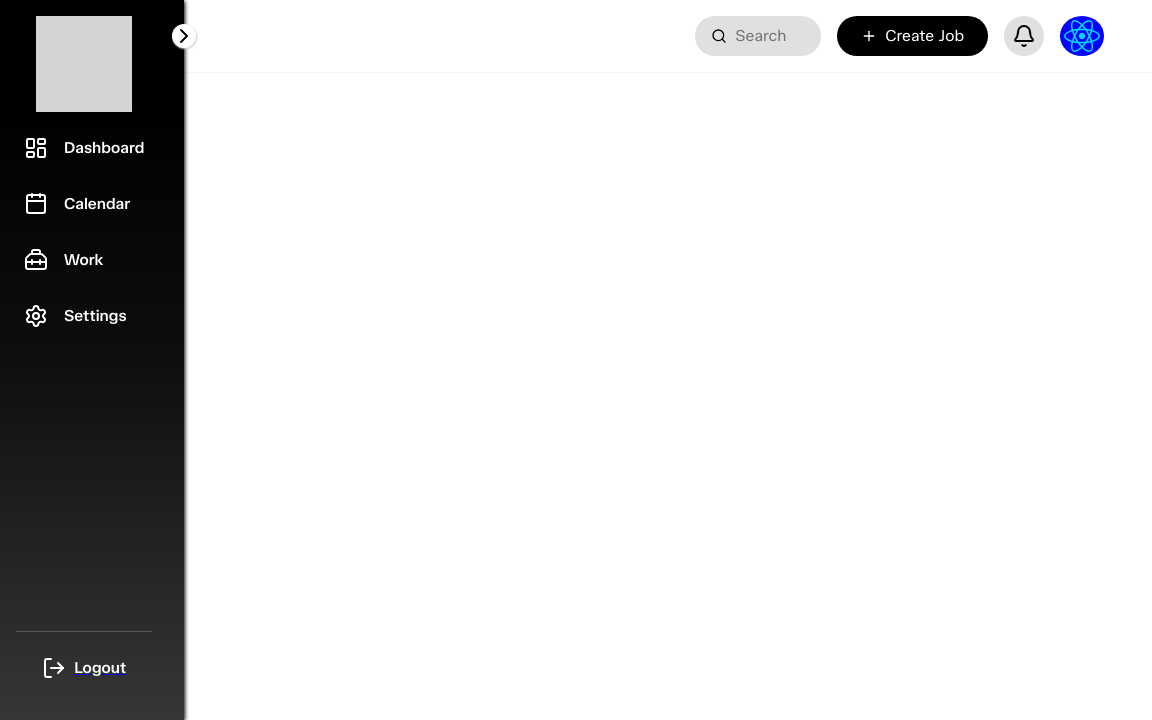
Scenario: Dashboard component › job window functionality › should render job window on add job btn click
Click the button with test id "jobWindowBtn" at (913, 36), box top-left (837, 16), bottom-right (988, 56)
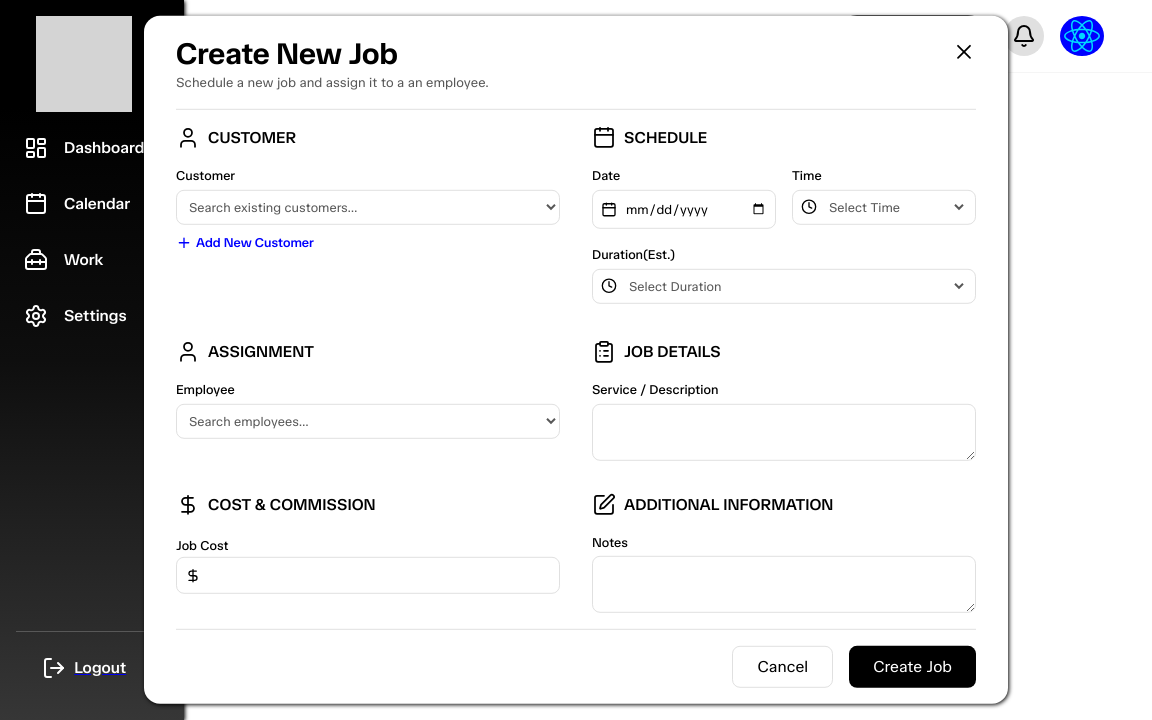
Now the dialog with test id "jobWindow" is shown
